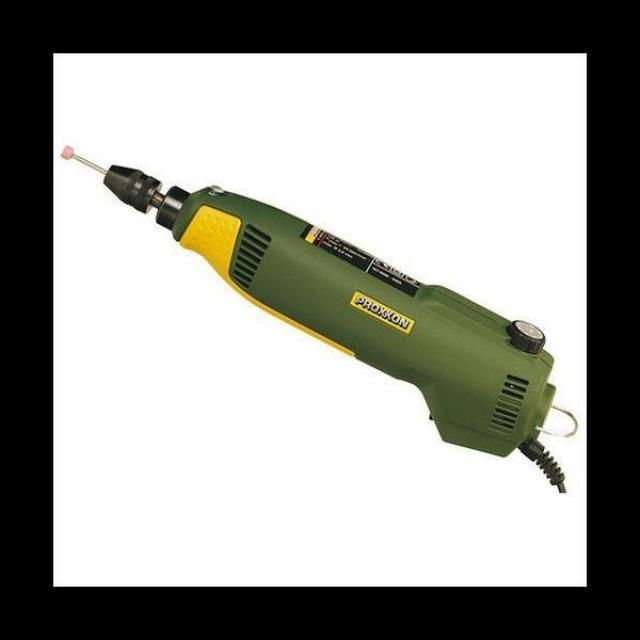drill: (58, 144, 555, 458)
